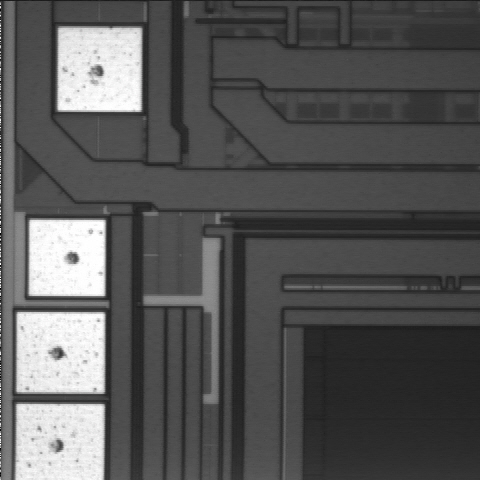pad: (17, 312, 105, 394), (58, 28, 142, 112), (29, 220, 105, 296)
